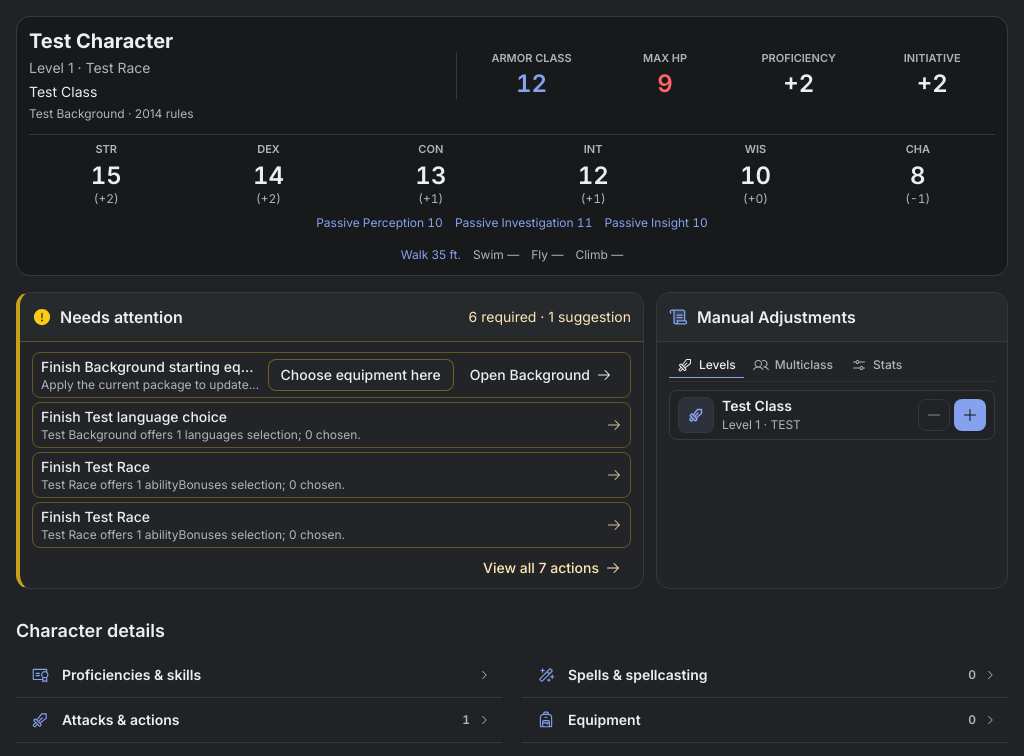
Test: BuildOverviewPage › shares the Background equipment picker and updates readiness from Overview
This screenshot has width=1024, height=756.
Later steps or results of the test are not shown.
Click the button "Choose equipment here": [361, 375] box [268,359,454,391]
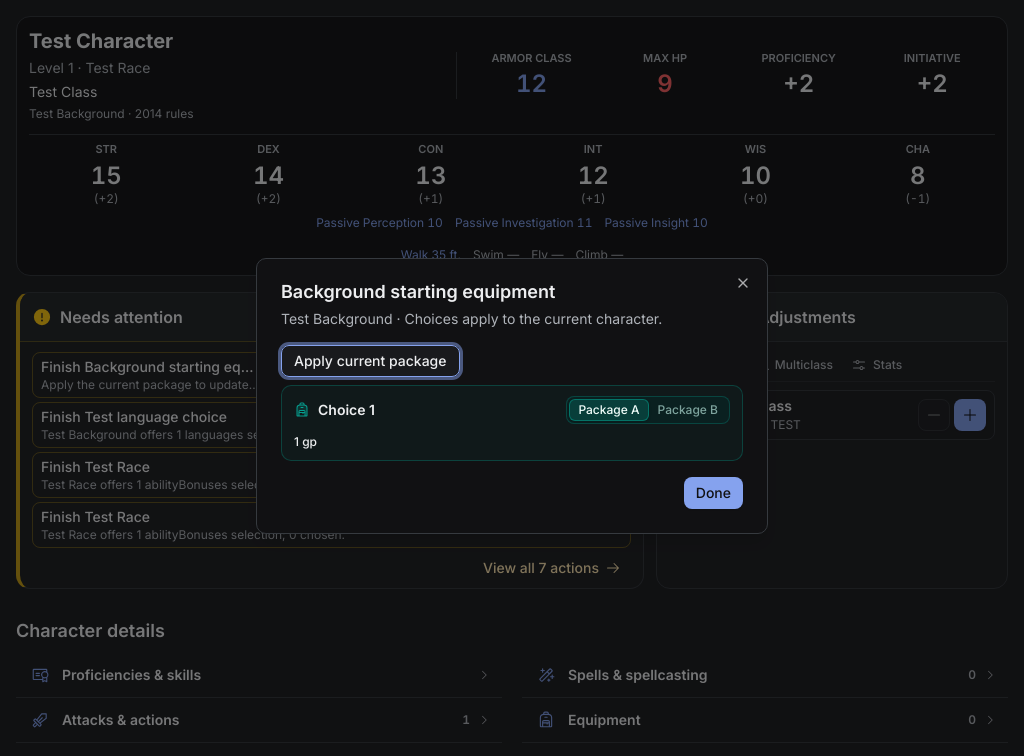
Press Escape
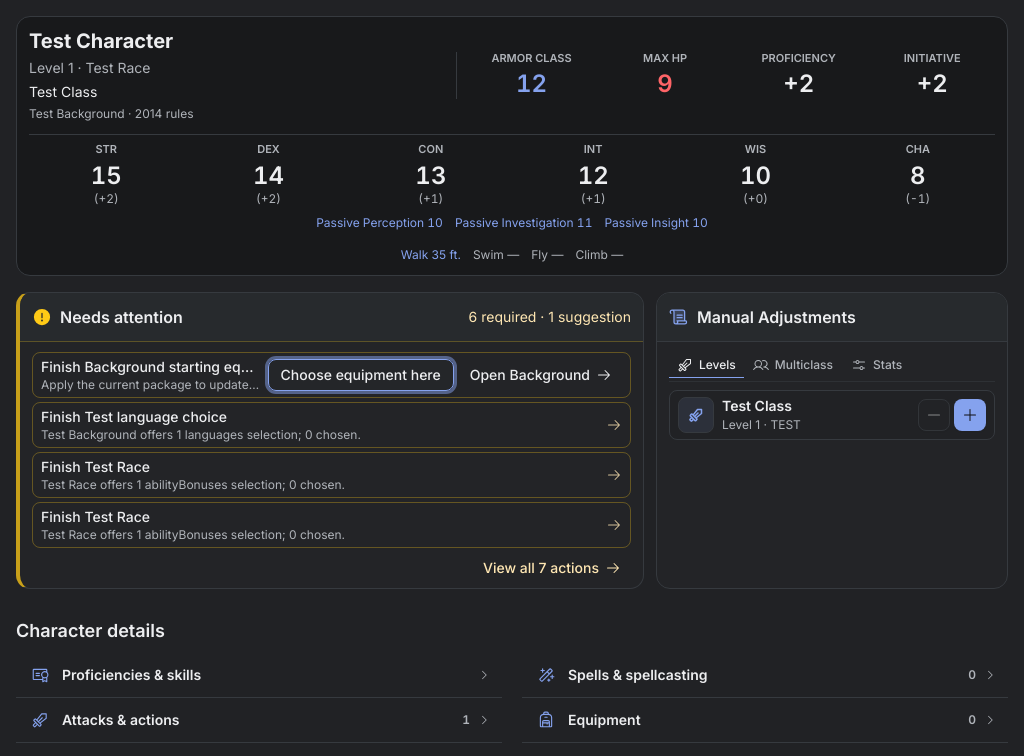
Check: the dialog is gone
Click the button "Choose equipment here": [361, 375] box [268,359,454,391]
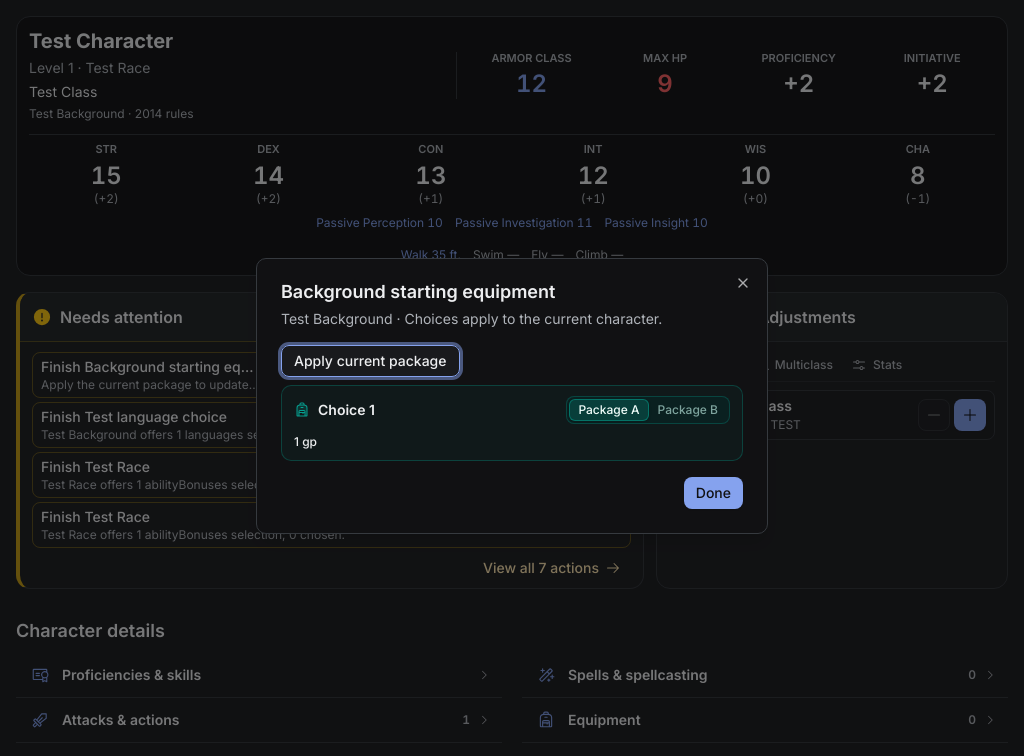
Click the tab "Package B": [688, 410] box [648,399,727,421]
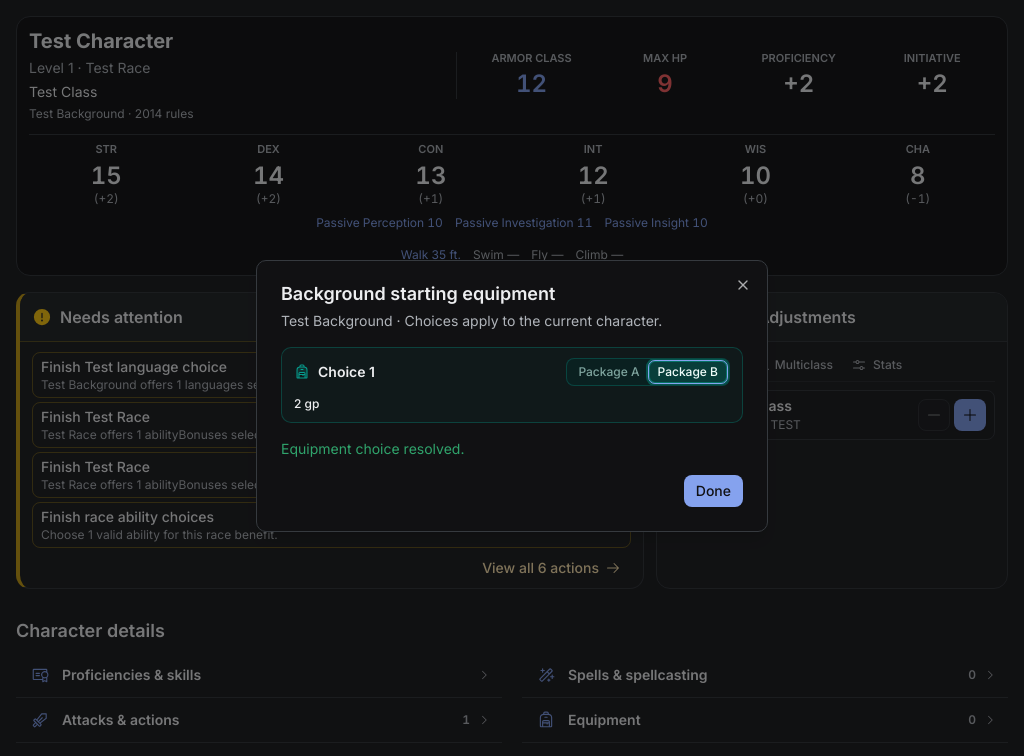
Check: the text "Equipment choice resolved." is shown, box [281,440,464,457]
